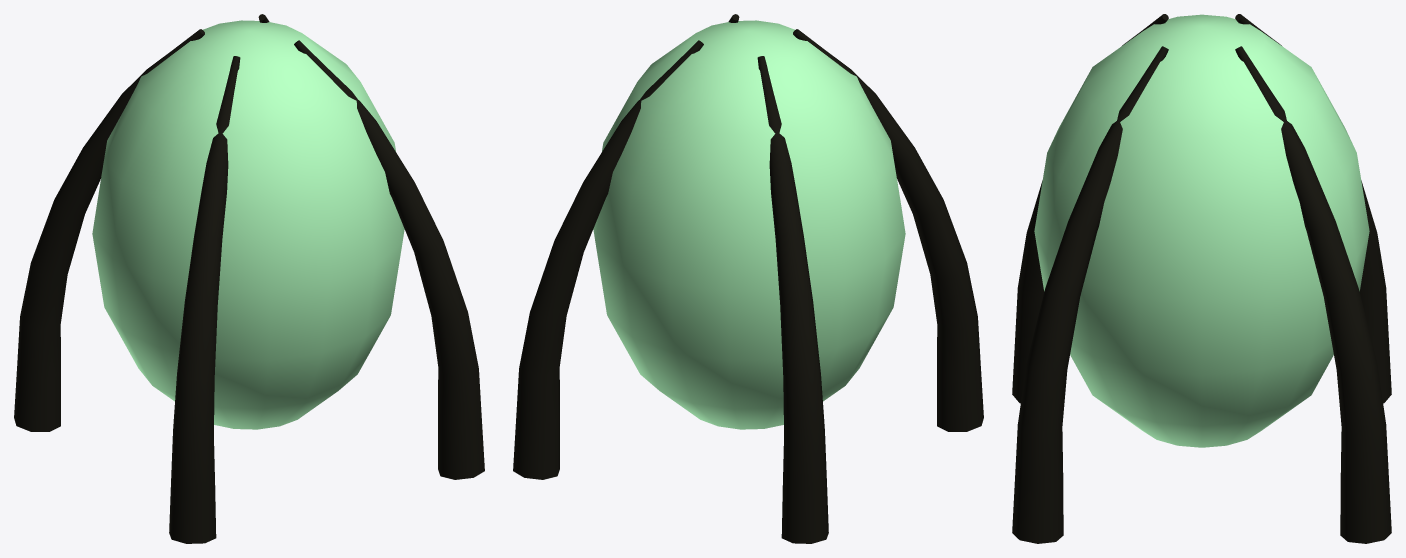
Rendered from wortkern.obj.
3 views of the same model, side by side, from view 1: azimuth 30°, elevation 25°; view 2: azimuth 150°, elevation 25°; view 3: azimuth 270°, elevation 25° (orthographic). The views are drawn at different scales.
Parts seen in each view (by area): view 1: Wortkern; view 2: Wortkern; view 3: Wortkern.
Boxes of the visible parts, x1,y1,x2,y2 form: Wortkern: [14, 14, 484, 543]; Wortkern: [513, 14, 983, 543]; Wortkern: [1012, 14, 1391, 543].
Bounding box in the file's own units: 0.2945 × 0.3769 × 0.2945.
